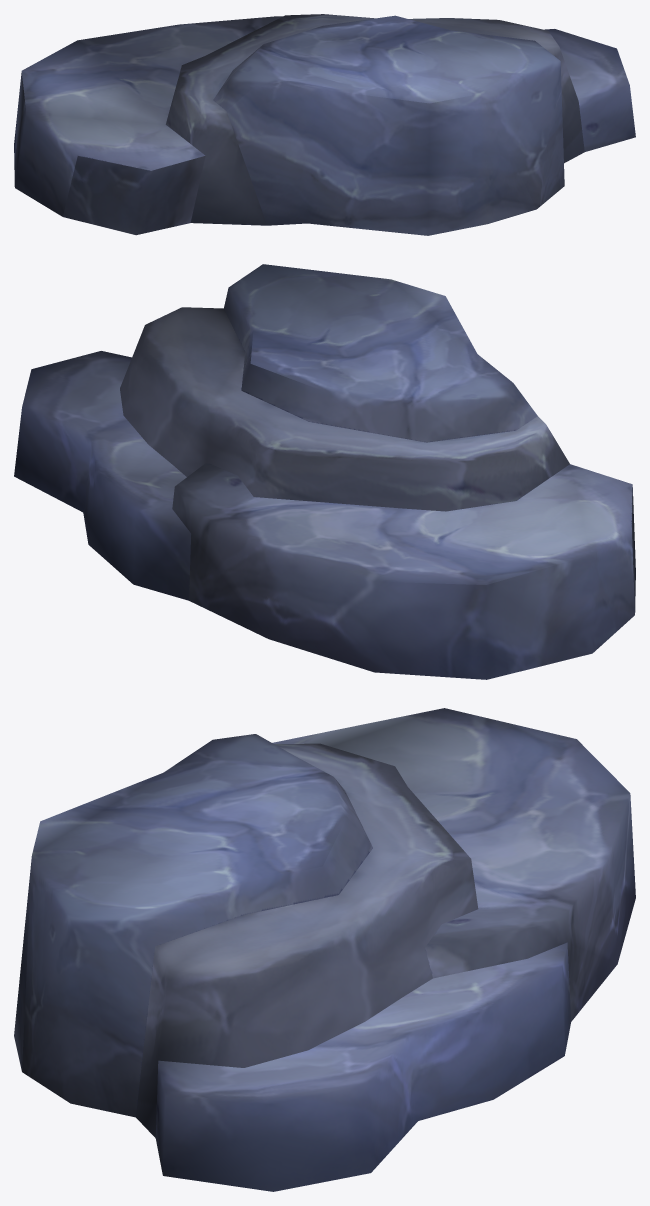
File: Snake_stone_06.fbx
The picture shows the model from 3 angles, top to bottom: view 1: azimuth 30°, elevation 25°; view 2: azimuth 150°, elevation 25°; view 3: azimuth 270°, elevation 25°; orthographic projection. The views are drawn at different scales.
Parts seen in each view (by area): view 1: Snake_stone_06; view 2: Snake_stone_06; view 3: Snake_stone_06.
Part boxes in pixels (x1,y1,x2,y2): Snake_stone_06: [14, 14, 635, 235]; Snake_stone_06: [14, 264, 635, 679]; Snake_stone_06: [14, 708, 635, 1191].
Size of the model in its own units: 307 by 68.35 by 214.
